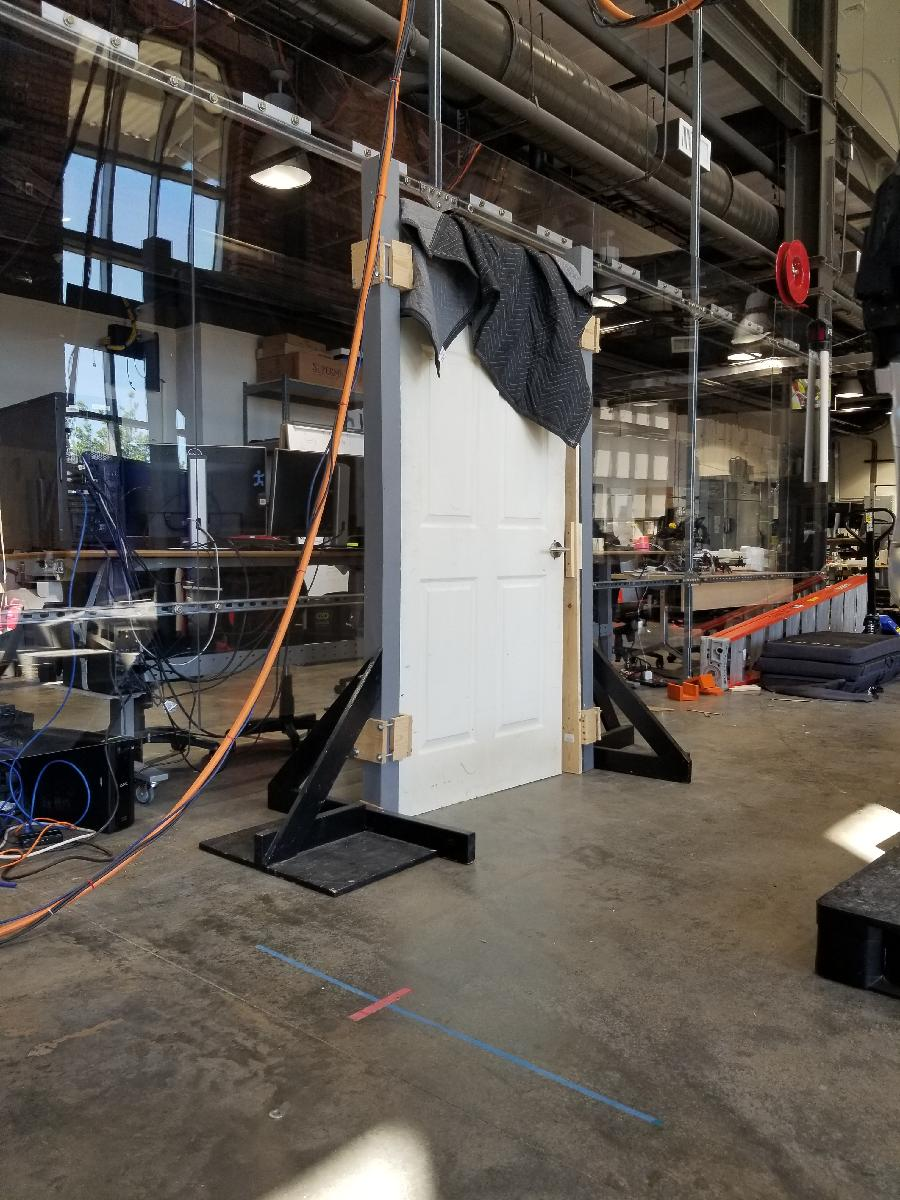door: (397, 197, 573, 819)
doorHandle: (541, 540, 571, 561)
